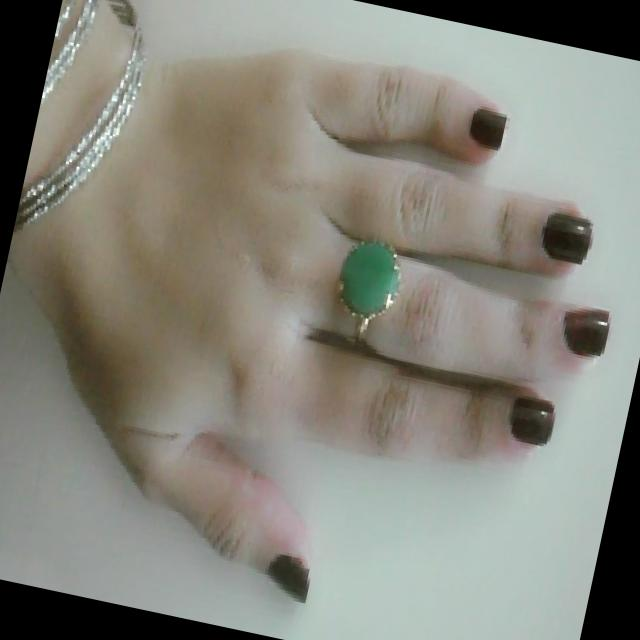Nail: (541, 214, 591, 264), (509, 396, 554, 445), (564, 309, 607, 357), (267, 554, 308, 602), (469, 109, 506, 149)
